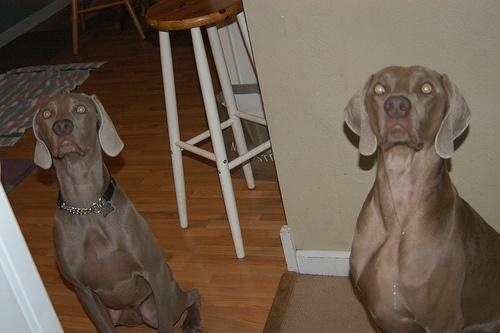dog: (30, 91, 205, 333), (344, 66, 500, 333)
